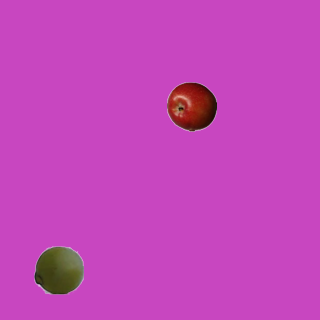Apple Braeburn: (166, 81, 216, 131)
Grape White 4: (33, 244, 83, 294)
